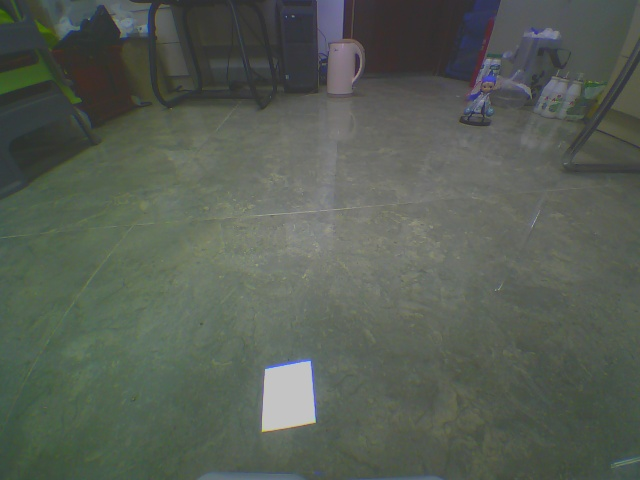Aobing: (461, 69, 504, 137)
